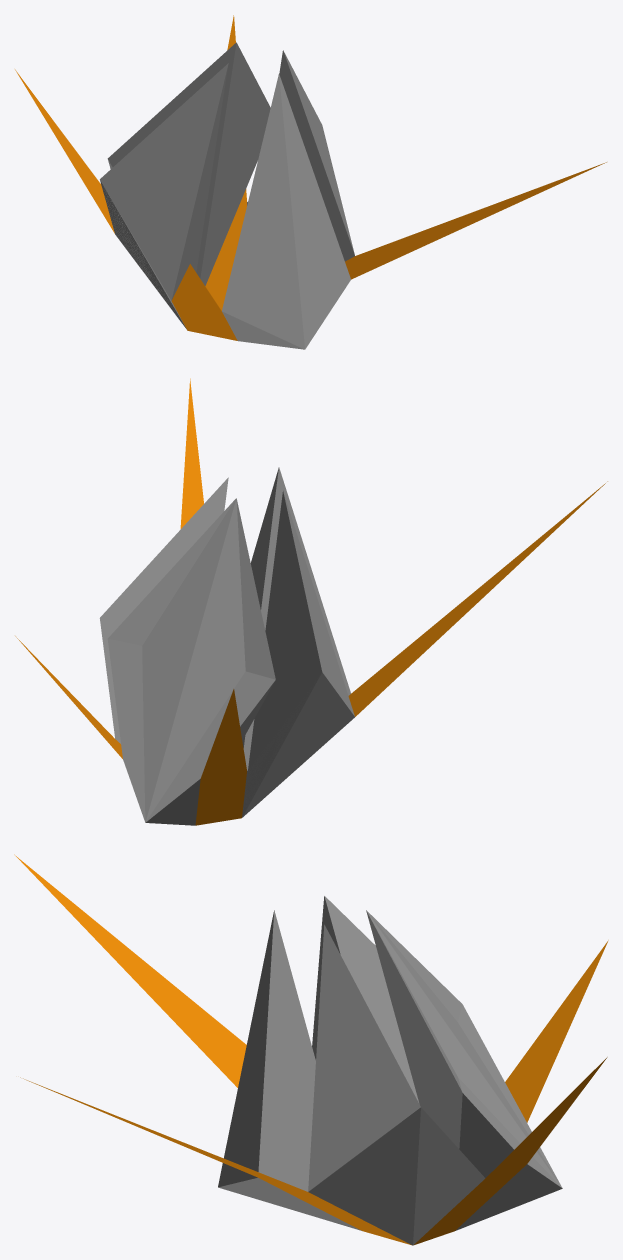
File: 8164fire_head_mesh.glb
The picture shows the model from 3 angles, top to bottom: view 1: azimuth 30°, elevation 25°; view 2: azimuth 150°, elevation 25°; view 3: azimuth 270°, elevation 25°; orthographic projection. The views are drawn at different scales.
Visible parts, largest first — view 1: PolishedFaceExpanded; view 2: PolishedFaceExpanded; view 3: PolishedFaceExpanded.
Boxes of the visible parts, x1,y1,x2,y2 form: PolishedFaceExpanded: (15,15,606,349); PolishedFaceExpanded: (15,378,607,825); PolishedFaceExpanded: (14,854,608,1245).
Size of the model in its own units: 5.43 by 3.69 by 6.18.
